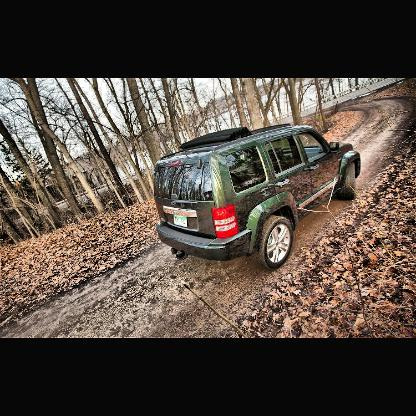Jeep Liberty SUV 2012: (154, 124, 363, 273)
